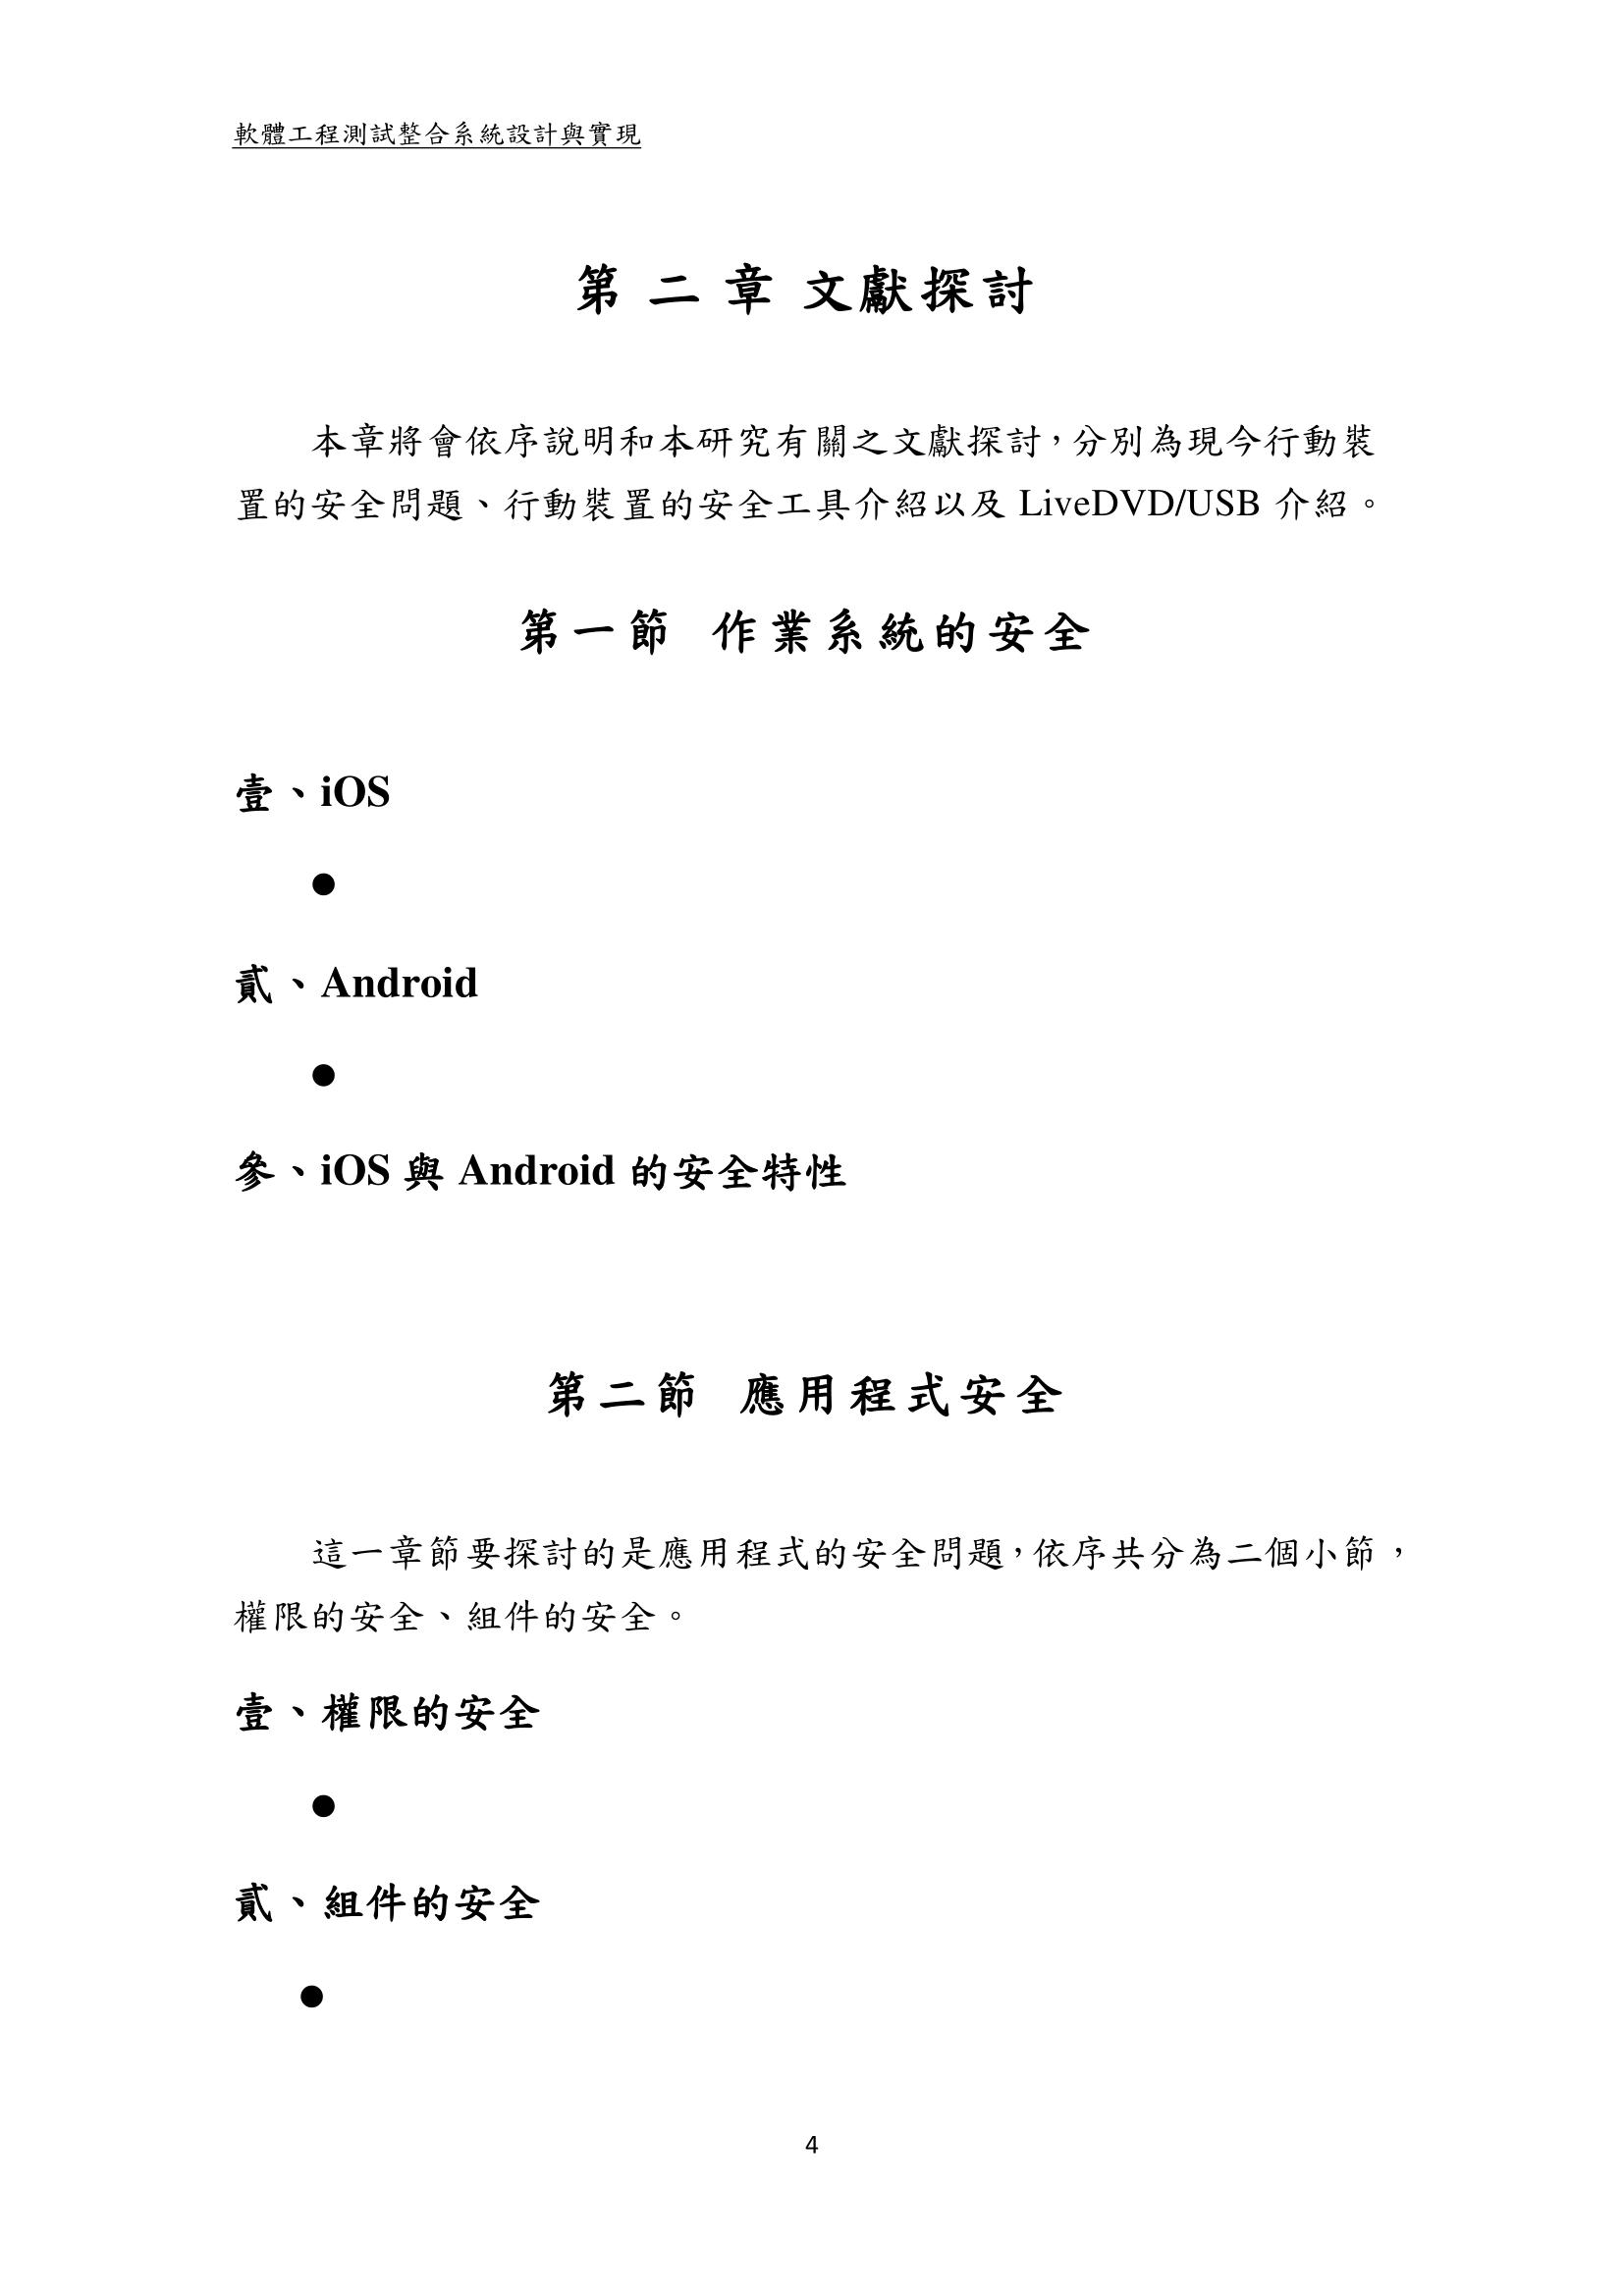text: (223, 415, 1397, 546), (220, 1521, 1417, 1643), (492, 587, 1100, 675), (527, 1349, 1081, 1442), (216, 1142, 863, 1214), (561, 248, 1042, 330), (223, 1669, 554, 1753), (220, 111, 664, 169), (216, 1867, 561, 1939), (220, 950, 487, 1014), (204, 757, 406, 820)
